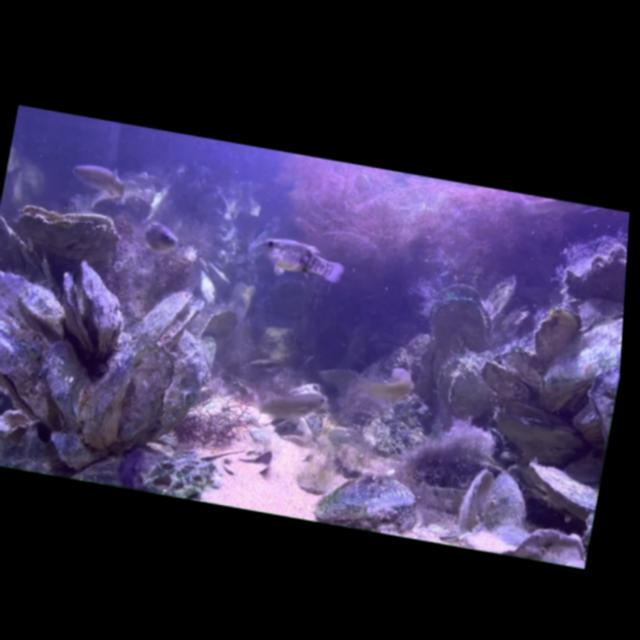Oyster-Closed: (536, 297, 624, 420), (116, 339, 177, 448), (78, 338, 137, 449), (488, 409, 590, 473), (12, 200, 123, 256), (519, 458, 603, 524), (0, 214, 57, 287), (527, 302, 585, 370)
Oyster-Indeterminate: (0, 306, 79, 431), (156, 328, 218, 438), (33, 337, 98, 434), (11, 280, 72, 343), (475, 357, 538, 406), (483, 270, 520, 327), (0, 376, 16, 457)
Oyster-Open: (47, 256, 133, 366), (454, 465, 533, 550), (133, 282, 208, 356), (422, 276, 486, 353), (87, 179, 155, 227), (268, 411, 306, 439)
